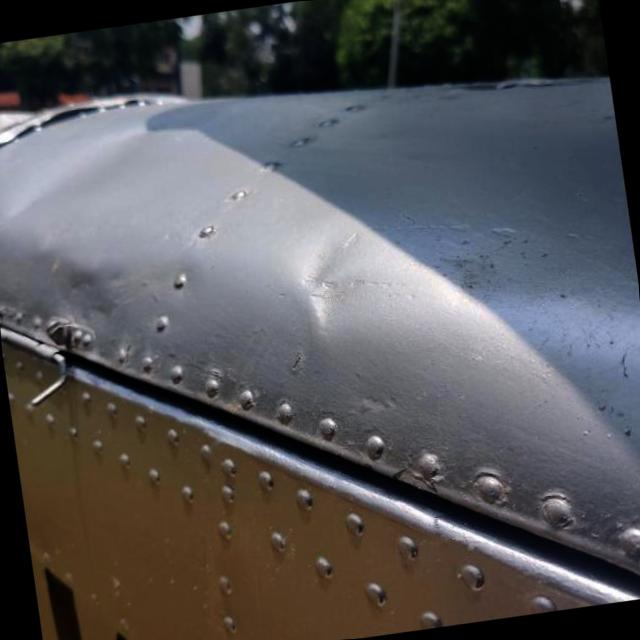dent: (268, 187, 414, 352)
